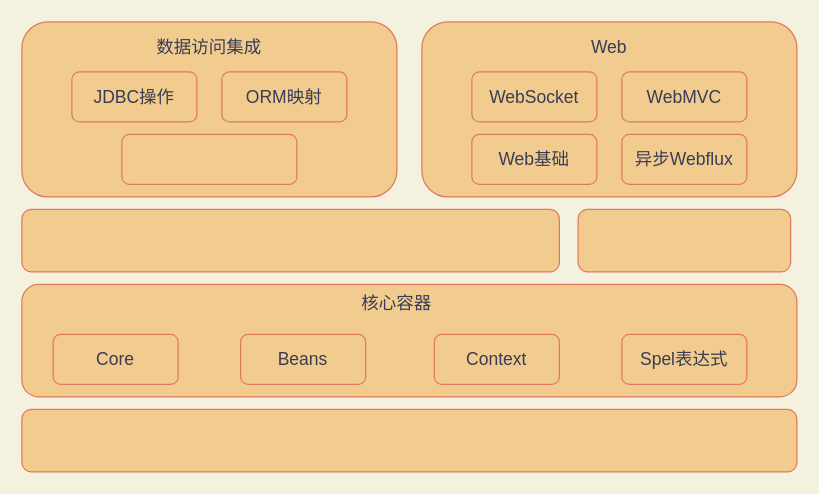
The diagram is 819 pixels wide and 494 high, and some of its shapes have lost their labels. The centre of each missing label's shape, as x and y in pixels:
"Test" belongs at point 409,440.
"事务控制" belongs at point 209,158.
"消息框架" belongs at point 684,240.
"面向切面编程" belongs at point 290,240.
